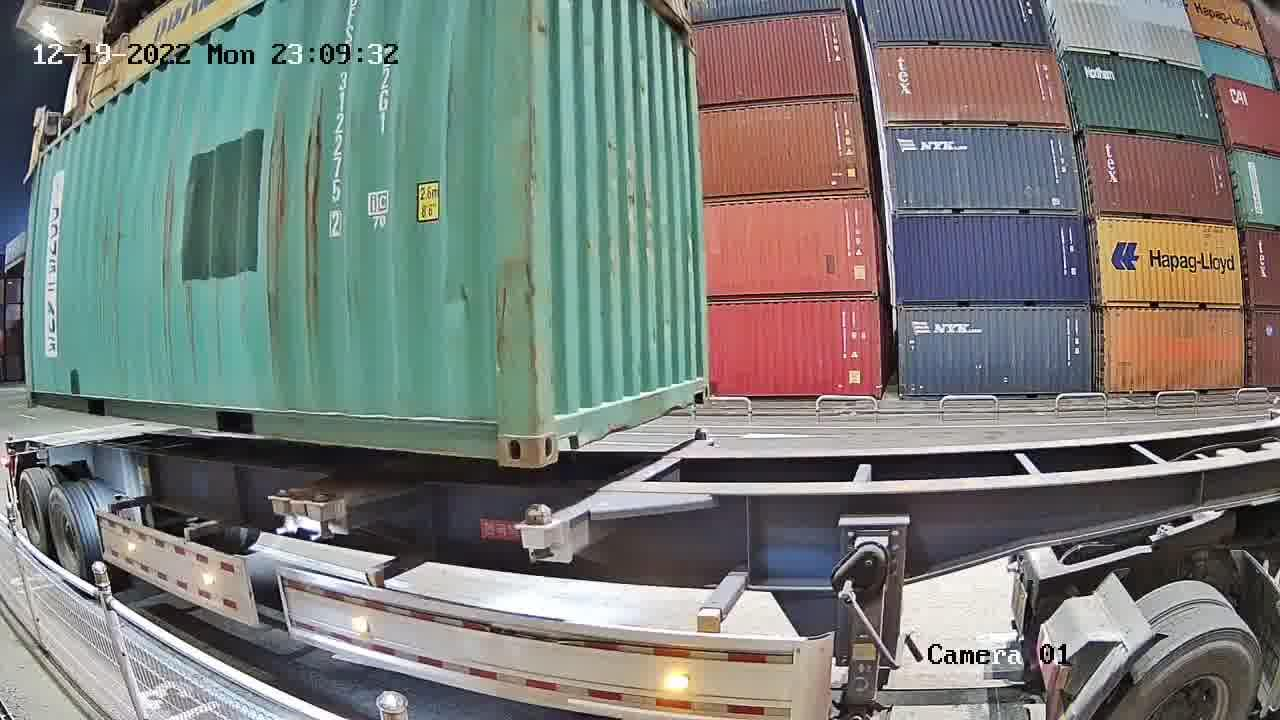Chassis: (518, 437, 715, 562)
Cone: (517, 501, 560, 563), (689, 425, 714, 443)
Hole_L: (537, 390, 580, 466)
Hole_R: (467, 395, 536, 467), (687, 369, 710, 405)
Tire: (50, 493, 87, 577), (20, 474, 46, 549)
